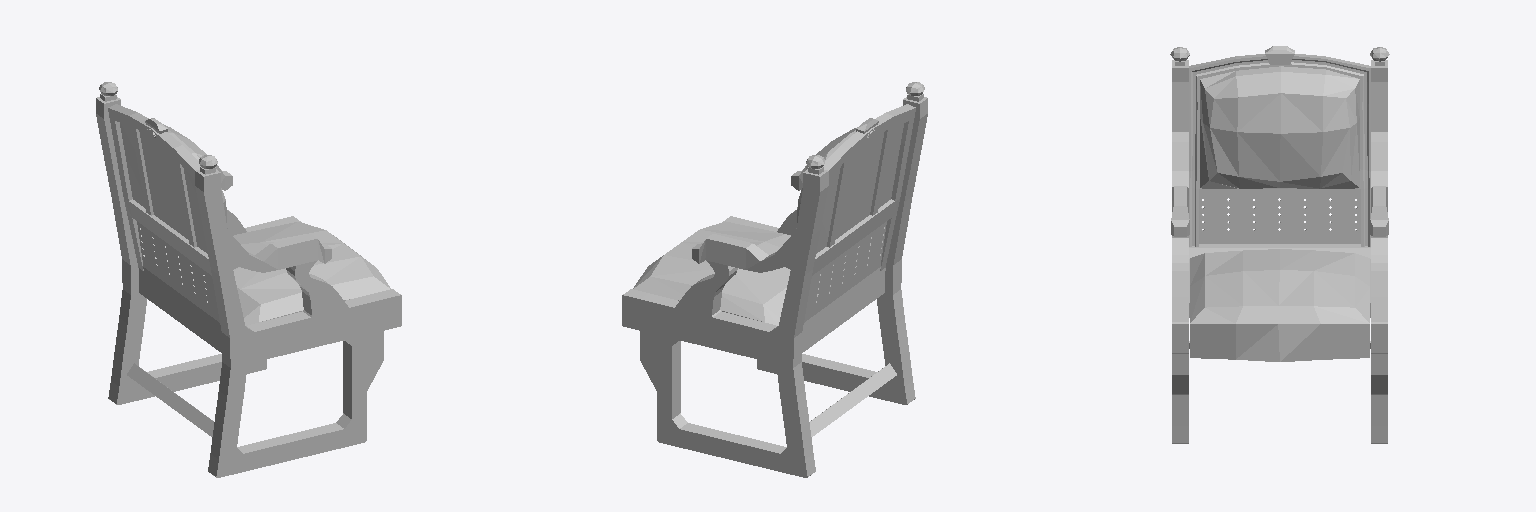
Rendered from seat.obj.
3 renders of one model, left to right at view 1: azimuth 30°, elevation 25°; view 2: azimuth 150°, elevation 25°; view 3: azimuth 270°, elevation 25°, orthographic.
Visible parts, largest first — view 1: default; view 2: default; view 3: default.
Boxes of the visible parts, box(x1,y1,x2,y2) form: default: box(96, 82, 401, 477); default: box(622, 82, 927, 477); default: box(1170, 46, 1389, 443).
Bounding box in the file's own units: 0.7231 × 1.04 × 0.6464.